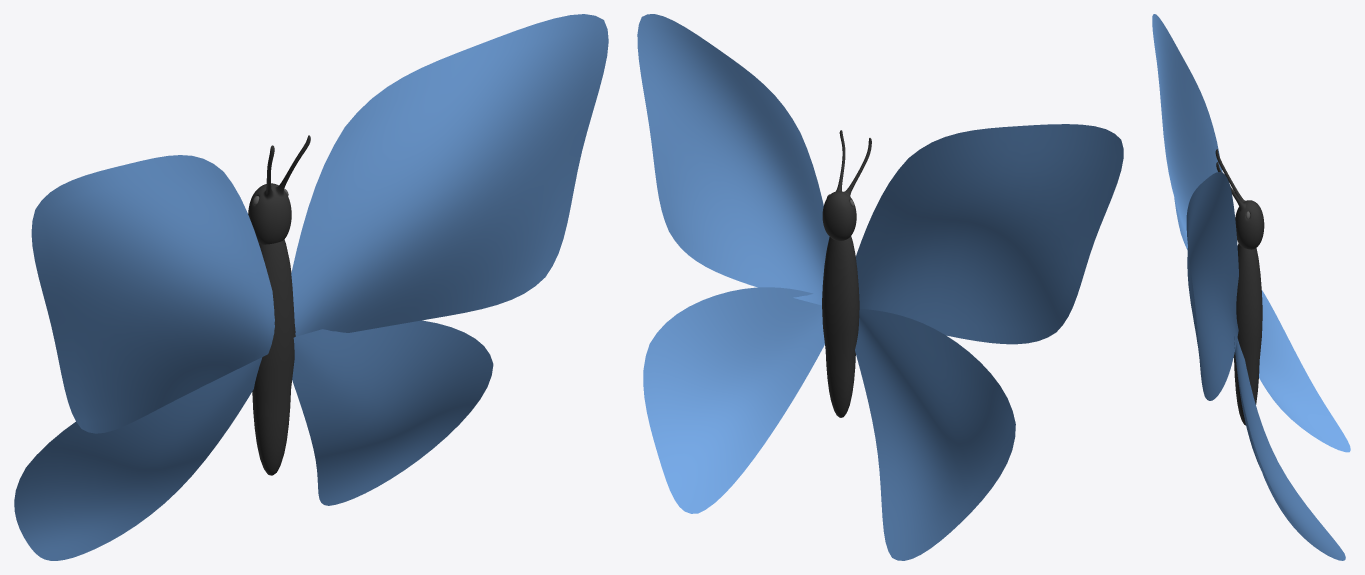
Rendered from butterfly .fbx.
3 renders of one model, left to right at view 1: azimuth 30°, elevation 25°; view 2: azimuth 150°, elevation 25°; view 3: azimuth 270°, elevation 25°, orthographic. The views are drawn at different scales.
Parts seen in each view (by area): view 1: plane.08, plane.07, plane.06, plane.05, plane, plane.04; view 2: plane.07, plane.08, plane.06, plane.05, plane, plane.04; view 3: plane.08, plane.07, plane.05, plane.06, plane, plane.04.
Part boxes in pixels (x1,y1,x2,y2): plane.08: (291,14,608,336); plane.07: (31,155,274,433); plane.06: (292,320,493,505); plane.05: (14,357,262,560); plane: (252,239,295,475); plane.04: (248,135,310,244); plane.07: (855,124,1123,344); plane.08: (637,14,829,305); plane.06: (643,287,824,513); plane.05: (855,308,1015,560); plane: (822,236,859,417); plane.04: (822,130,871,240); plane.08: (1186,172,1238,400); plane.07: (1152,14,1222,249); plane.05: (1259,290,1350,452); plane.06: (1234,336,1345,560); plane: (1233,243,1262,425); plane.04: (1215,149,1264,249).
Size of the model in its own units: 71.6 by 60.5 by 26.51.
